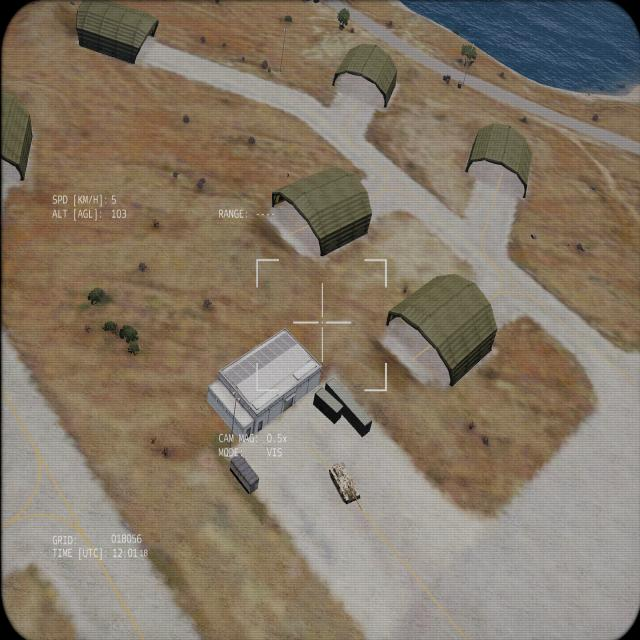tank: (328, 461, 362, 511)
